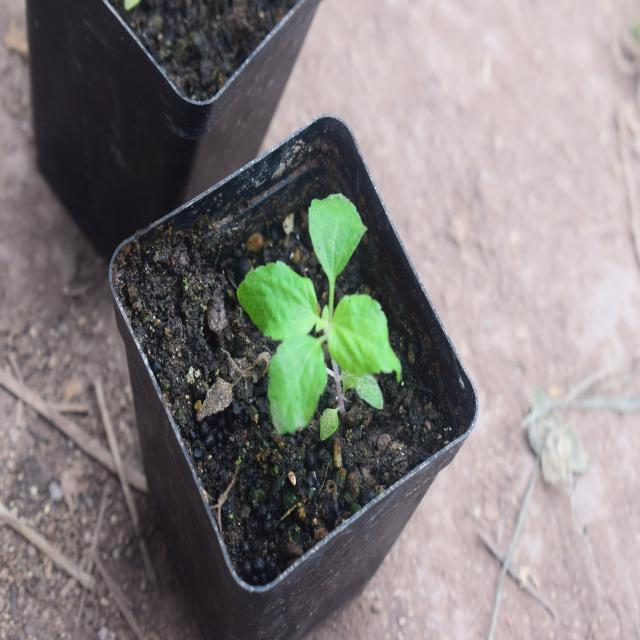billygoat_weed: (239, 195, 405, 432)
